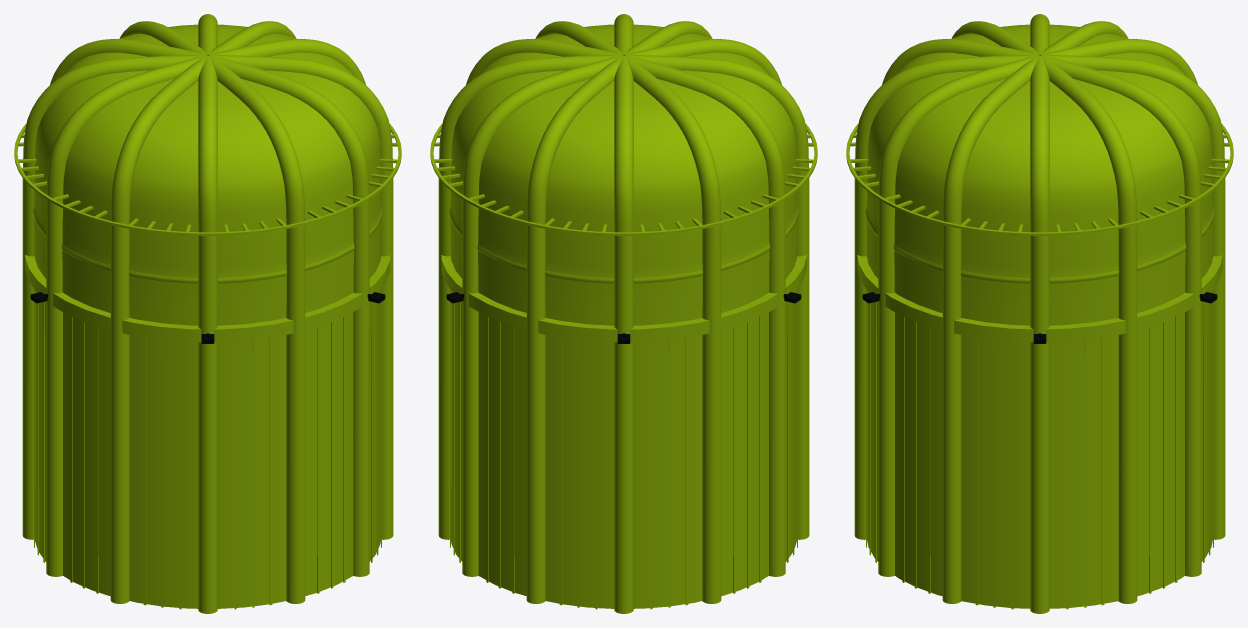
Rendered from water_tower_fixed.fbx.
3 views of the same model, side by side, from view 1: azimuth 30°, elevation 25°; view 2: azimuth 150°, elevation 25°; view 3: azimuth 270°, elevation 25° (orthographic).
Visible parts, largest first — view 1: polySurface9, pCylinder22, pCube31, pPipe3; view 2: polySurface9, pCylinder22, pCube31, pPipe3; view 3: polySurface9, pCylinder22, pCube31, pPipe3.
Part boxes in pixels (box(x1,y1,x2,y2)): polySurface9: box(25, 24, 390, 608); pCylinder22: box(22, 14, 393, 613); pCube31: box(34, 289, 381, 609); pPipe3: box(14, 123, 401, 235); polySurface9: box(441, 24, 806, 608); pCylinder22: box(438, 14, 809, 613); pCube31: box(450, 289, 797, 609); pPipe3: box(430, 123, 817, 235); polySurface9: box(857, 24, 1222, 608); pCylinder22: box(854, 14, 1225, 613); pCube31: box(866, 289, 1213, 609); pPipe3: box(846, 123, 1233, 235).
Bounding box in the file's own units: 8.11 × 10.67 × 7.8.
